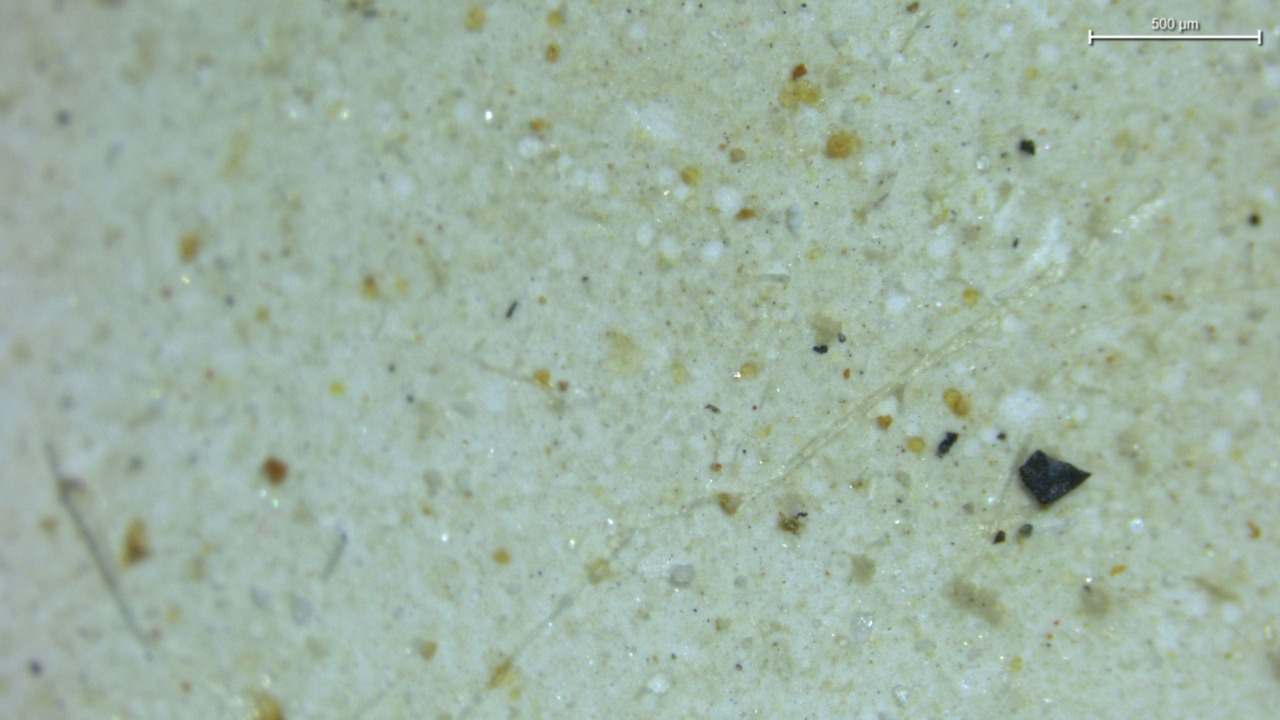microplastic_fragment: (1018, 450, 1090, 505), (668, 564, 695, 587), (784, 205, 803, 234)
